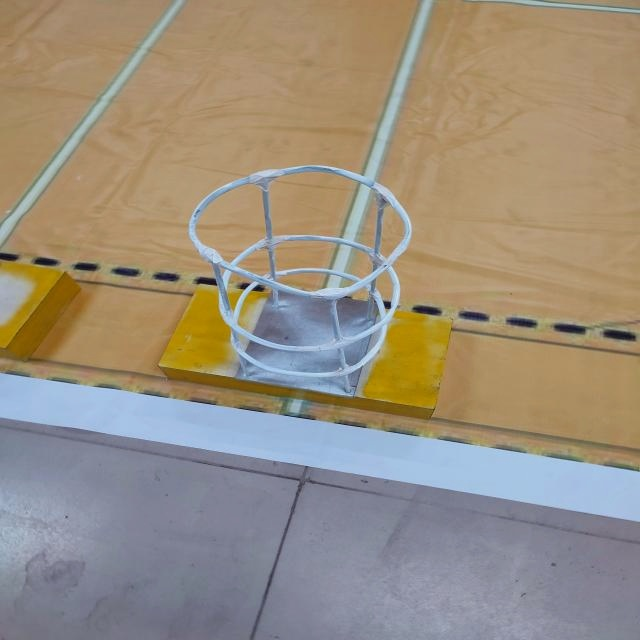silo: (169, 150, 429, 408)
